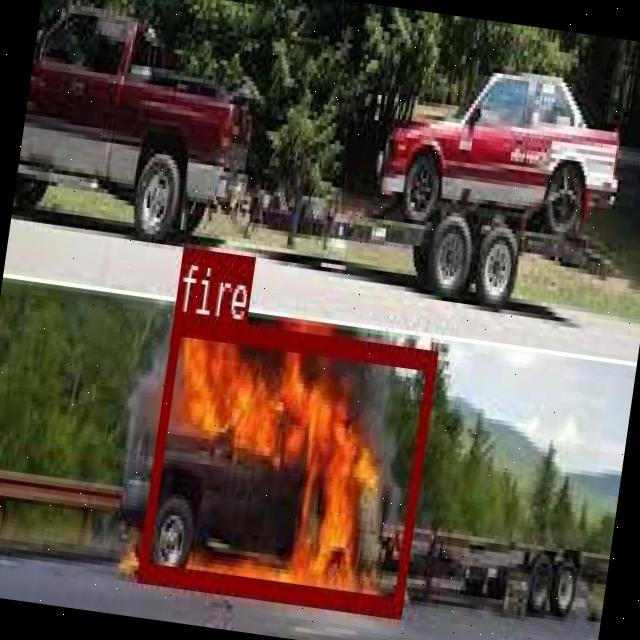fire: (136, 311, 438, 614)
